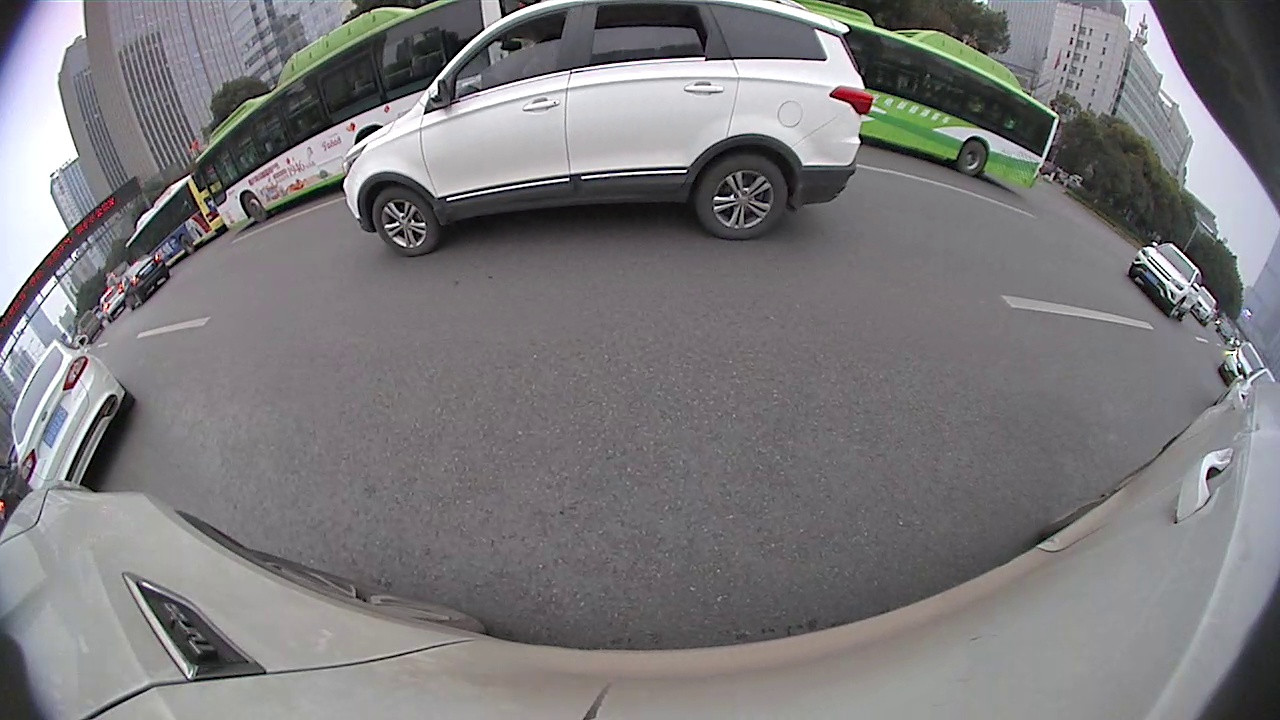bus: (190, 4, 530, 238), (786, 0, 1066, 202)
car: (339, 1, 876, 260), (5, 337, 136, 496), (1127, 238, 1202, 322)
front: (374, 181, 443, 258), (238, 191, 269, 224)
rear: (693, 153, 786, 241), (957, 139, 988, 176)
